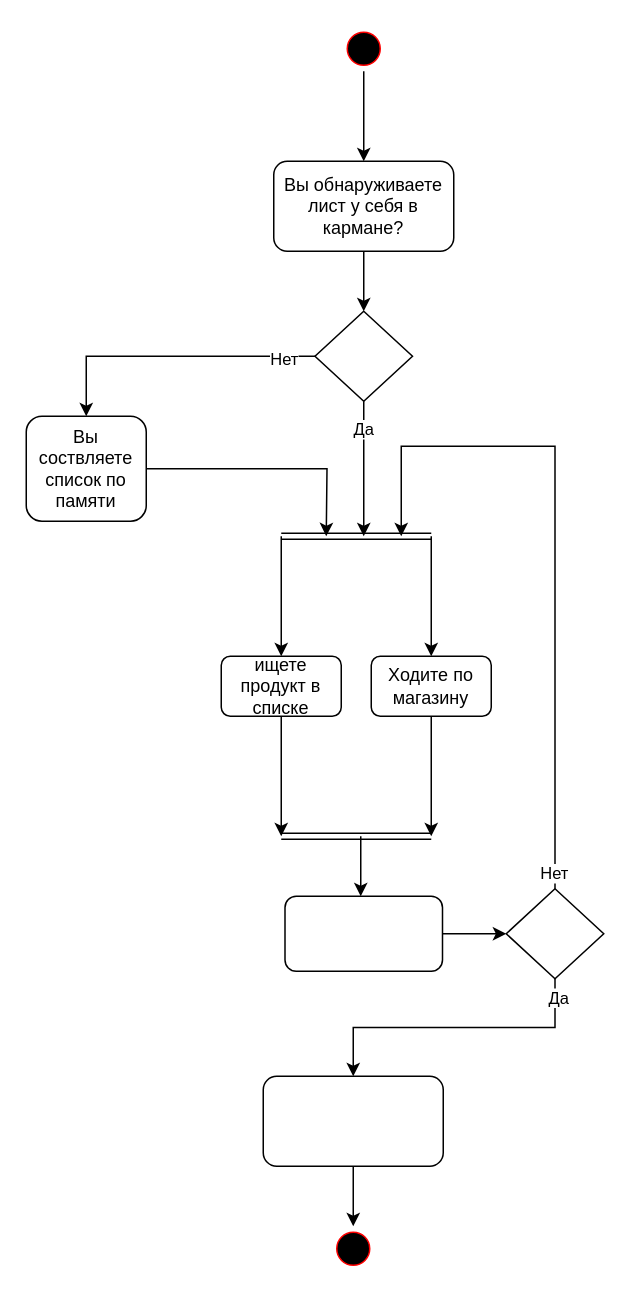
The diagram is 630 pixels wide and 1298 high, and some of its shapes have lost their labels. The shapes that lost their labels are listed below. From the top down, each one's centre as x and y in pixels, then its label:
At point 363,933: "Продукты в списке закончились?".
At point 352,1120: "Вы оплачиваете и идете домой".
